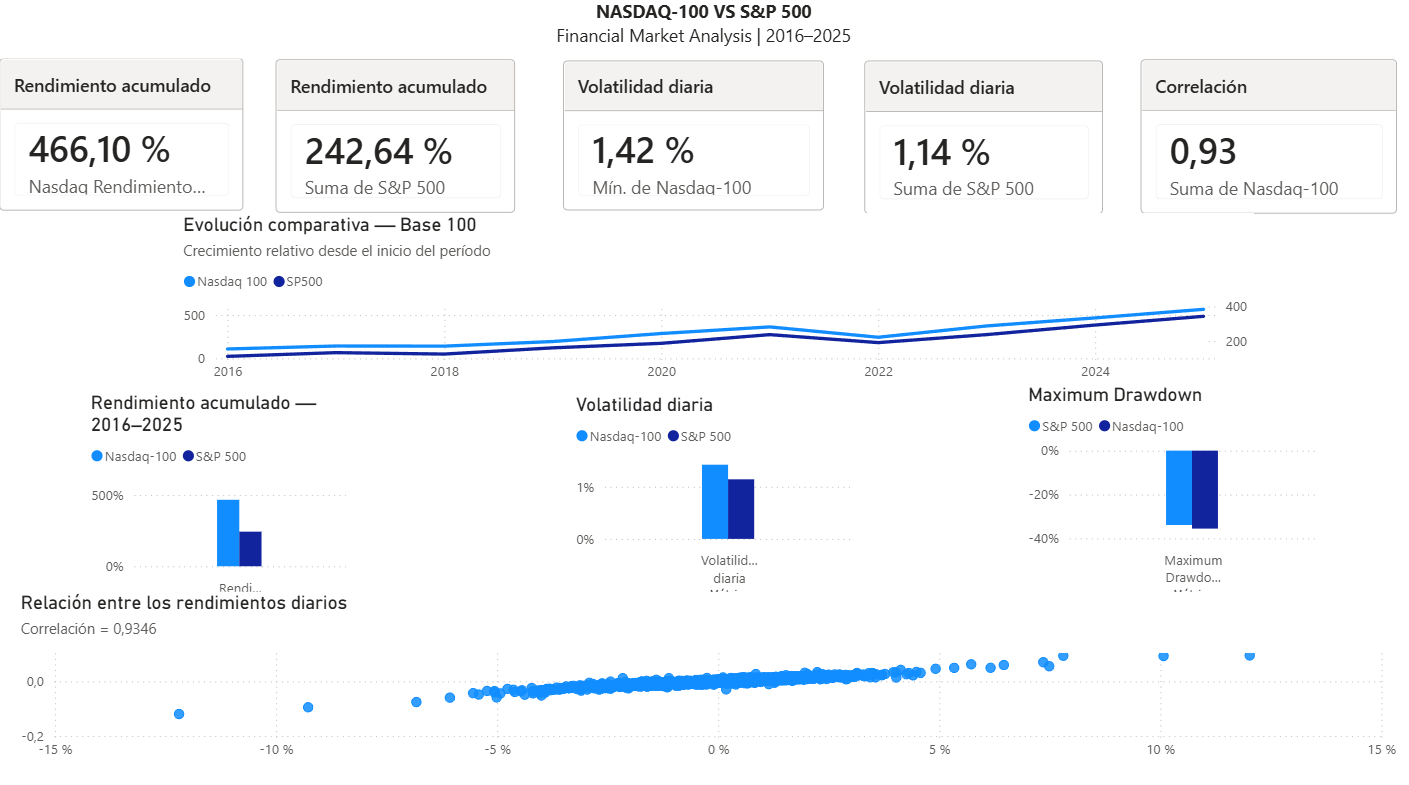

The dashboard page shown, as its layout file describes it:
{"tool":"powerbi","page":{"name":"Página 1","canvas":[1280,720],"ordinal":0},"visuals":[{"type":"cardVisual","fields":{"Data":["Datos_Analisis.Nasdaq Rendimiento Acumulado"],"Rows":["Metricas.Métrica"]},"box":[0,33.8,230,187.5],"z":0},{"type":"cardVisual","fields":{"Data":["Sum(Metricas.S&P 500)"],"Rows":["Metricas.Métrica"]},"box":[248.9,35.1,226.6,188.3],"z":1000},{"type":"cardVisual","fields":{"Rows":["Metricas.Métrica"],"Data":["Sum(Metricas.S&P 500)"]},"box":[779.8,36.2,225.5,188.3],"z":2000},{"type":"cardVisual","fields":{"Data":["Min(Metricas.Nasdaq-100)"],"Rows":["Metricas.Métrica"]},"box":[508.8,36.2,245,185],"z":3000},{"type":"cardVisual","fields":{"Rows":["Metricas.Métrica"],"Data":["Sum(Metricas.Nasdaq-100)"]},"box":[1028.7,35.1,241.5,189.4],"z":4000},{"type":"lineChart","title":"Evolución comparativa — Base 100","fields":{"Category":["Evolucion_Anual.Año"],"Y":["Sum(Evolucion_Anual.Nasdaq_Base100)"],"Y2":["Max(Evolucion_Anual.SP500_Base100)"]},"box":[166,198.9,970.2,160.6],"z":5000},{"type":"clusteredColumnChart","title":"Rendimiento acumulado — 2016–2025","fields":{"Category":["Metricas.Métrica"],"Y":["Sum(Metricas.Nasdaq-100)","Sum(Metricas.S&P 500)"]},"box":[81.9,359.6,240.4,192.6],"z":6000},{"type":"clusteredColumnChart","title":"Volatilidad diaria","fields":{"Category":["Metricas.Métrica"],"Y":["Sum(Metricas.Nasdaq-100)","Sum(Metricas.S&P 500)"]},"box":[519.1,360.6,260.6,192.6],"z":7000},{"type":"clusteredColumnChart","title":"Maximum Drawdown","fields":{"Category":["Metricas.Métrica"],"Y":["Sum(Metricas.S&P 500)","Sum(Metricas.Nasdaq-100)"]},"box":[927.7,352.1,270.2,201.1],"z":8000},{"type":"scatterChart","title":"Relación entre los rendimientos diarios","fields":{"X":["Datos_Analisis.Nasdaq_Daily_Return"],"Y":["Datos_Analisis.SP500_Daily_Return"]},"box":[19.1,540.4,1251.1,159.6],"z":9000},{"type":"textbox","box":[0,0,1279.8,59.6],"z":10000},{"type":"actionButton","box":[0,0,100,40],"z":11000}]}

Visuals, with their boxes in screenshot pixels (x1, y1, x2, y2), scaled from the page's 1280x720 canvas onto the 1409x785 screenshot:
cardVisual - Datos_Analisis.Nasdaq Rendimiento Acumulado x Metricas.Métrica: l=0, t=37, r=253, b=241
cardVisual - Sum(Metricas.S&P 500) x Metricas.Métrica: l=274, t=38, r=523, b=244
cardVisual - Metricas.Métrica x Sum(Metricas.S&P 500): l=858, t=39, r=1107, b=245
cardVisual - Min(Metricas.Nasdaq-100) x Metricas.Métrica: l=560, t=39, r=830, b=241
cardVisual - Metricas.Métrica x Sum(Metricas.Nasdaq-100): l=1132, t=38, r=1398, b=245
"Evolución comparativa — Base 100" lineChart: l=183, t=217, r=1251, b=392
"Rendimiento acumulado — 2016–2025" clusteredColumnChart: l=90, t=392, r=355, b=602
"Volatilidad diaria" clusteredColumnChart: l=571, t=393, r=858, b=603
"Maximum Drawdown" clusteredColumnChart: l=1021, t=384, r=1319, b=603
"Relación entre los rendimientos diarios" scatterChart: l=21, t=589, r=1398, b=763
textbox: l=0, t=0, r=1408, b=65
actionButton: l=0, t=0, r=110, b=44
